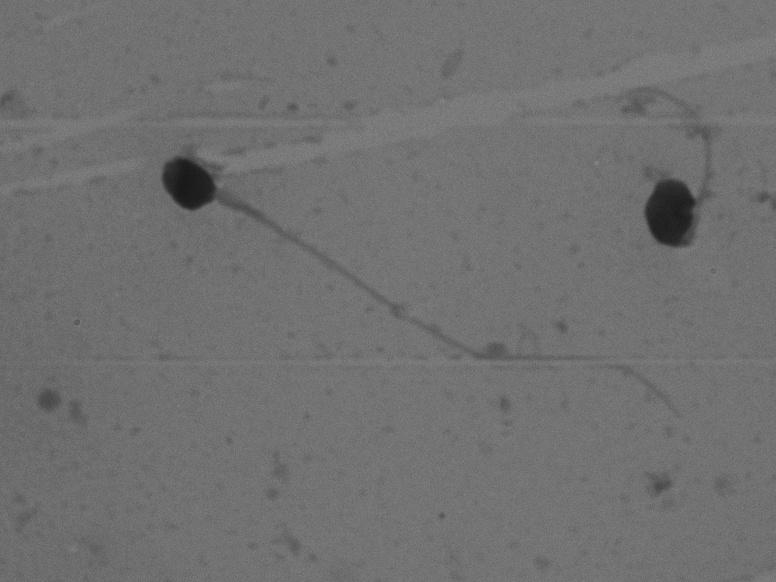Abnormal: (126, 125, 735, 449), (585, 59, 747, 266)
